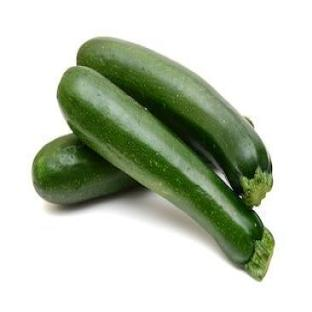Zucchini: (58, 66, 273, 279), (77, 38, 272, 206), (32, 135, 137, 203)
